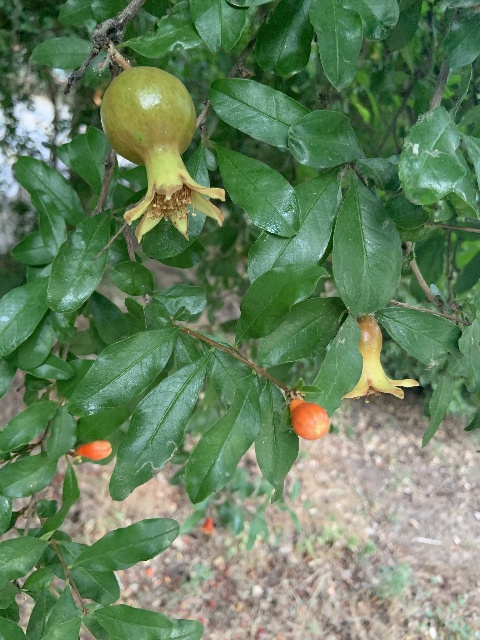bud: (290, 399, 329, 441), (76, 439, 112, 460)
early-fruit: (342, 314, 419, 403)
mid-growth: (102, 66, 226, 242)
